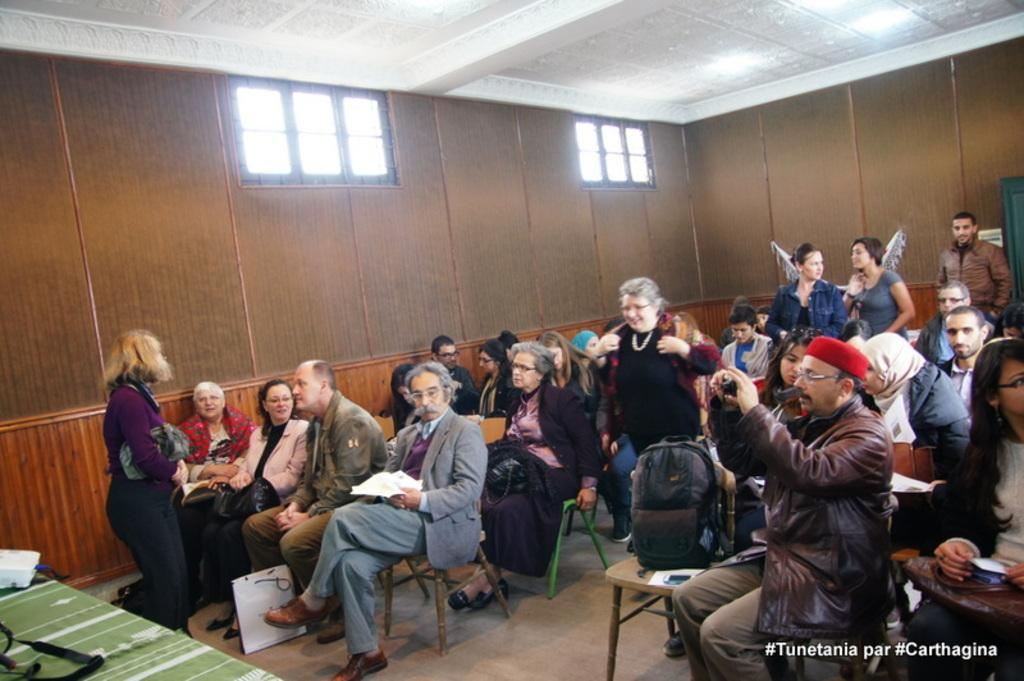Luggage-and-bags: (897, 548, 1023, 641), (650, 443, 746, 565), (122, 415, 192, 479), (207, 476, 283, 517), (481, 438, 525, 501)
